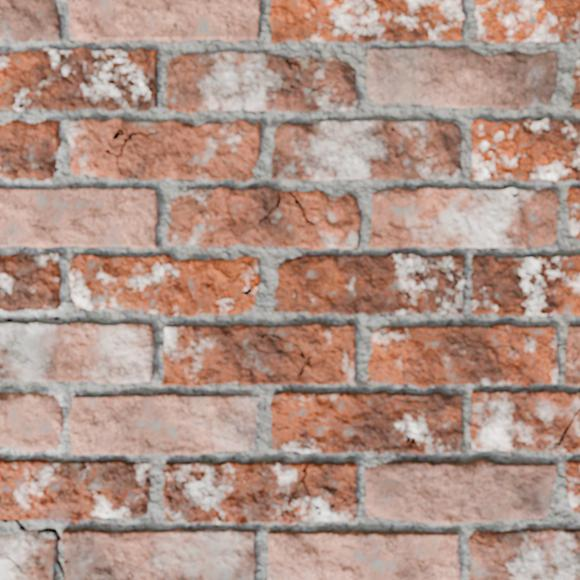brick: (365, 460, 556, 523), (163, 462, 357, 523), (367, 324, 557, 386), (162, 324, 354, 385), (68, 119, 260, 180), (271, 392, 462, 453), (366, 48, 557, 109), (169, 187, 359, 248), (167, 52, 356, 113), (274, 254, 464, 314), (69, 255, 259, 315), (69, 394, 258, 454), (272, 120, 460, 180), (370, 188, 558, 247), (0, 48, 156, 110), (62, 529, 255, 579), (0, 460, 150, 523), (0, 188, 157, 247), (268, 531, 459, 579), (0, 323, 154, 382), (270, 0, 463, 42), (69, 0, 259, 41), (470, 391, 579, 452), (471, 119, 579, 180), (471, 255, 579, 315), (469, 529, 579, 579), (476, 0, 579, 42), (0, 392, 64, 452), (0, 119, 60, 182), (0, 253, 61, 312), (0, 0, 61, 42), (0, 532, 54, 579), (565, 461, 579, 511), (566, 188, 579, 238), (566, 327, 579, 360), (571, 58, 579, 109), (565, 364, 579, 385)
crack: (0, 518, 65, 579), (284, 58, 337, 102), (285, 462, 311, 506), (554, 407, 579, 447), (287, 192, 314, 226), (258, 191, 281, 225), (445, 254, 459, 297), (414, 257, 431, 285), (382, 393, 429, 403), (566, 350, 579, 375), (241, 283, 258, 297), (489, 326, 513, 333), (511, 189, 523, 198), (49, 315, 59, 320), (573, 393, 579, 400), (6, 317, 14, 322), (30, 317, 39, 321), (0, 489, 5, 496), (455, 10, 462, 14)
